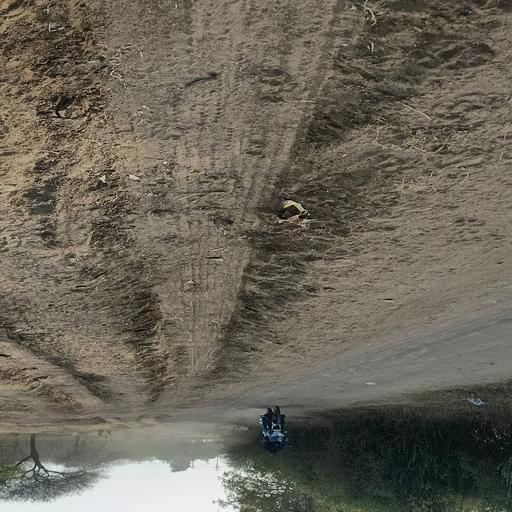vehicle_track: (99, 1, 341, 402), (259, 299, 512, 406), (0, 335, 106, 411)
